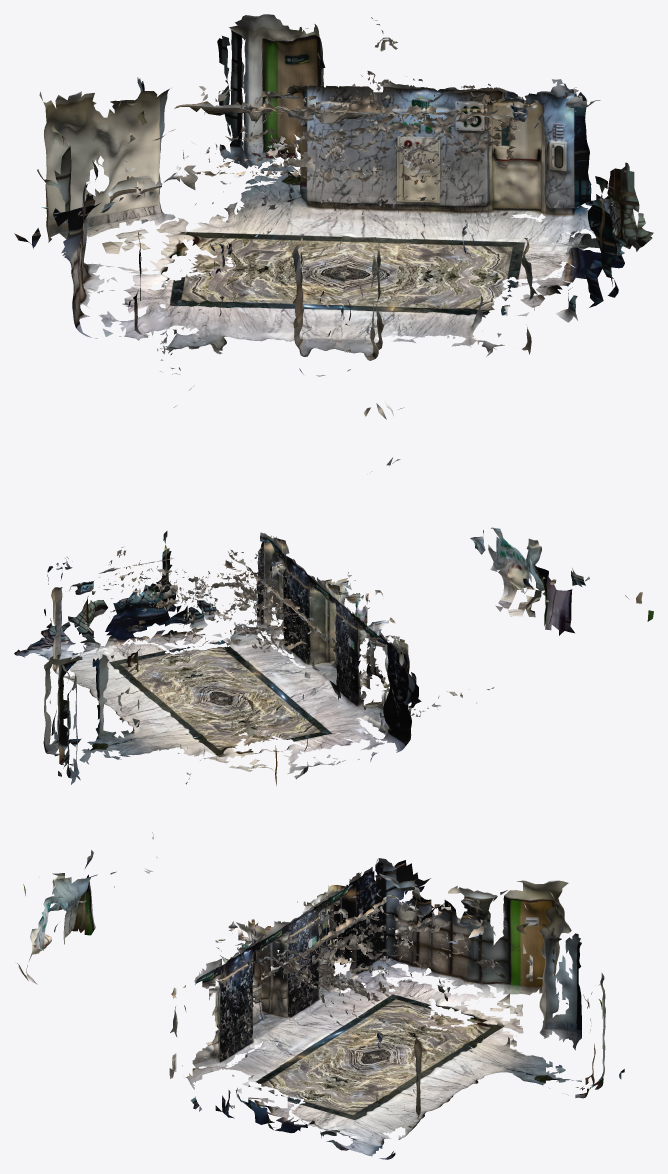
File: 147568-lantai13tower-tex.glb
The picture shows the model from 3 angles, top to bottom: view 1: azimuth 30°, elevation 25°; view 2: azimuth 150°, elevation 25°; view 3: azimuth 270°, elevation 25°; orthographic projection. The views are drawn at different scales.
Parts seen in each view (by area): view 1: Node; view 2: Node; view 3: Node.
Boxes of the visible parts, x1,y1,x2,y2 form: Node: (14,14,653,465); Node: (14,527,653,785); Node: (17,832,624,1159).
Size of the model in its own units: 13.23 by 4.13 by 14.7.
28 materials, 28 textured.
